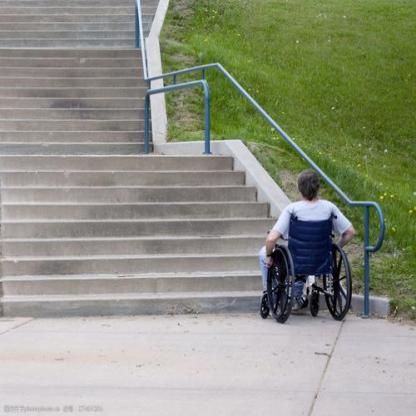wheelchair: (256, 171, 356, 324)
